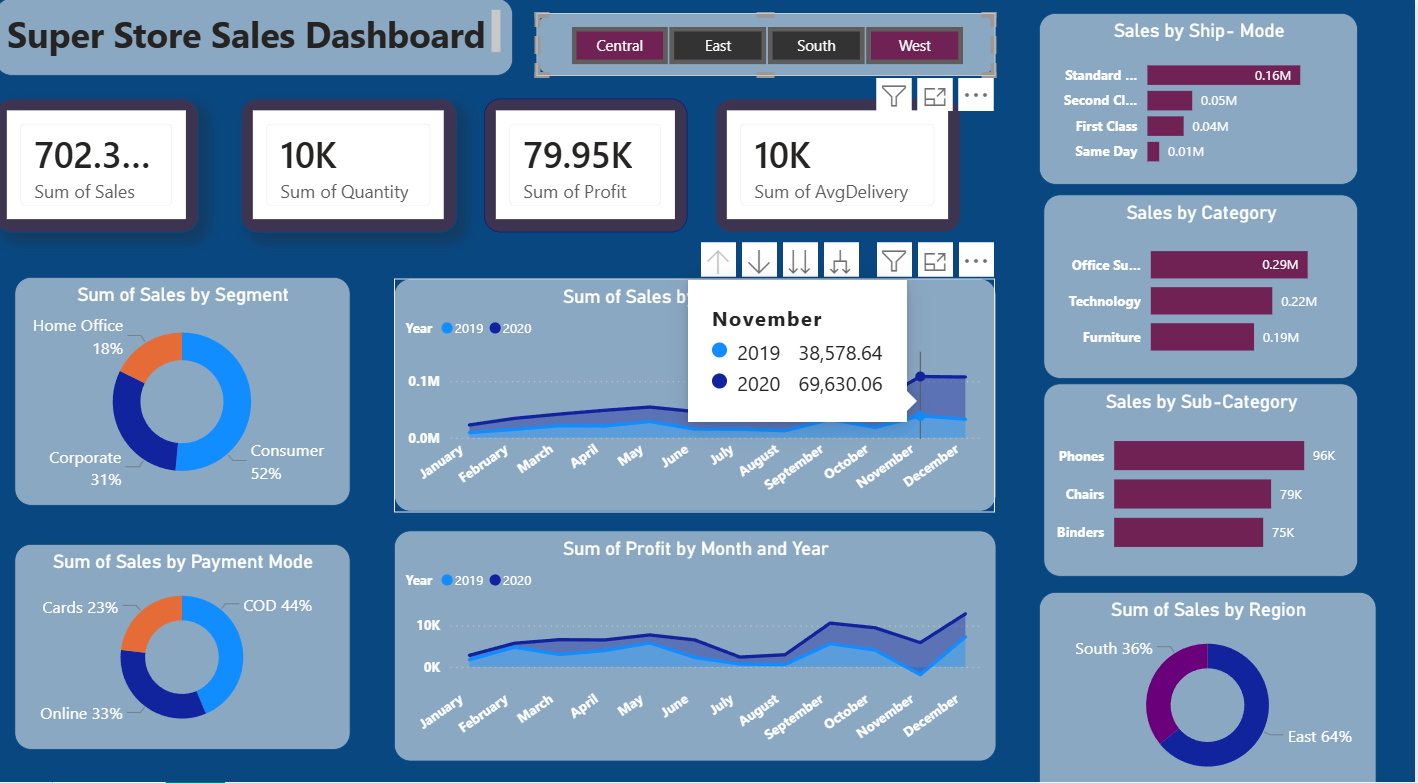

What the dashboard file says about the page in this screenshot:
{"tool":"powerbi","page":{"name":"Page 1","canvas":[1280,720],"ordinal":0},"visuals":[{"type":"clusteredBarChart","title":"Sales by Category","fields":{"Category":["SuperStore_Sales_Dataset.Category"],"Y":["Sum(SuperStore_Sales_Dataset.Sales)"]},"box":[944.9,177.6,283.5,166.3],"z":0},{"type":"clusteredBarChart","title":"Sales by  Sub-Category","fields":{"Category":["SuperStore_Sales_Dataset.Sub-Category"],"Y":["Sum(SuperStore_Sales_Dataset.Sales)"]},"box":[944.9,347.7,283.5,173.9],"z":1000},{"type":"clusteredBarChart","title":"Sales by Ship- Mode","fields":{"Y":["Sum(SuperStore_Sales_Dataset.Sales)"],"Category":["SuperStore_Sales_Dataset.Ship Mode"]},"box":[941.1,13.2,287.2,155],"z":2000},{"type":"stackedAreaChart","fields":{"Y":["Sum(SuperStore_Sales_Dataset.Sales)"],"Series":["SuperStore_Sales_Dataset.Order Date.Variation.Date Hierarchy.Year"],"Category":["SuperStore_Sales_Dataset.Order Date.Variation.Date Hierarchy.Month","SuperStore_Sales_Dataset.Order Date.Variation.Date Hierarchy.Day"]},"box":[359.1,253.2,542.4,209.8],"z":3000},{"type":"stackedAreaChart","fields":{"Series":["SuperStore_Sales_Dataset.Order Date.Variation.Date Hierarchy.Year"],"Category":["SuperStore_Sales_Dataset.Order Date.Variation.Date Hierarchy.Month","SuperStore_Sales_Dataset.Order Date.Variation.Date Hierarchy.Day"],"Y":["Sum(SuperStore_Sales_Dataset.Profit)"]},"box":[359.1,480,542.4,207.9],"z":4000},{"type":"donutChart","fields":{"Category":["SuperStore_Sales_Dataset.Segment"],"Y":["Sum(SuperStore_Sales_Dataset.Sales)"]},"box":[17,251.3,302.4,206],"z":5000},{"type":"donutChart","fields":{"Y":["Sum(SuperStore_Sales_Dataset.Sales)"],"Category":["SuperStore_Sales_Dataset.Region"]},"box":[941.1,534.8,304.3,185.2],"z":6000},{"type":"donutChart","fields":{"Y":["Sum(SuperStore_Sales_Dataset.Sales)"],"Category":["SuperStore_Sales_Dataset.Payment Mode"]},"box":[17,491.3,302.4,185.2],"z":7000},{"type":"slicer","fields":{"Values":["SuperStore_Sales_Dataset.Region"]},"box":[487.6,13.2,413.9,56.7],"z":8000},{"type":"textbox","box":[0,0,466.8,69.9],"z":8001},{"type":"cardVisual","fields":{"Data":["Sum(SuperStore_Sales_Dataset.Sales)"]},"box":[0,90.7,183.3,120.9],"z":8002},{"type":"cardVisual","fields":{"Data":["Sum(SuperStore_Sales_Dataset.Quantity)"]},"box":[221.1,90.7,194.6,120.9],"z":8003},{"type":"cardVisual","fields":{"Data":["Sum(SuperStore_Sales_Dataset.Profit)"]},"box":[440.3,90.7,183.3,120.9],"z":8004},{"type":"cardVisual","fields":{"Data":["Sum(SuperStore_Sales_Dataset.AvgDelivery)"]},"box":[648.2,90.7,221.1,120.9],"z":8005}]}

Visuals, with their boxes in screenshot pixels (x1, y1, x2, y2), scaled from the page's 1280x720 canvas onto the 1418x783 screenshot:
"Sales by Category" clusteredBarChart: pyautogui.locateOnScreen(1047, 193, 1361, 374)
"Sales by  Sub-Category" clusteredBarChart: pyautogui.locateOnScreen(1047, 378, 1361, 567)
"Sales by Ship- Mode" clusteredBarChart: pyautogui.locateOnScreen(1043, 14, 1361, 183)
stackedAreaChart - Sum(SuperStore_Sales_Dataset.Sales) x SuperStore_Sales_Dataset.Order Date.Variation.Date Hierarchy.Year: pyautogui.locateOnScreen(398, 275, 999, 504)
stackedAreaChart - SuperStore_Sales_Dataset.Order Date.Variation.Date Hierarchy.Year x SuperStore_Sales_Dataset.Order Date.Variation.Date Hierarchy.Month: pyautogui.locateOnScreen(398, 522, 999, 748)
donutChart - SuperStore_Sales_Dataset.Segment x Sum(SuperStore_Sales_Dataset.Sales): pyautogui.locateOnScreen(19, 273, 354, 497)
donutChart - Sum(SuperStore_Sales_Dataset.Sales) x SuperStore_Sales_Dataset.Region: pyautogui.locateOnScreen(1043, 582, 1380, 782)
donutChart - Sum(SuperStore_Sales_Dataset.Sales) x SuperStore_Sales_Dataset.Payment Mode: pyautogui.locateOnScreen(19, 534, 354, 736)
slicer - SuperStore_Sales_Dataset.Region: pyautogui.locateOnScreen(540, 14, 999, 76)
textbox: pyautogui.locateOnScreen(0, 0, 517, 76)
cardVisual - Sum(SuperStore_Sales_Dataset.Sales): pyautogui.locateOnScreen(0, 99, 203, 230)
cardVisual - Sum(SuperStore_Sales_Dataset.Quantity): pyautogui.locateOnScreen(245, 99, 461, 230)
cardVisual - Sum(SuperStore_Sales_Dataset.Profit): pyautogui.locateOnScreen(488, 99, 691, 230)
cardVisual - Sum(SuperStore_Sales_Dataset.AvgDelivery): pyautogui.locateOnScreen(718, 99, 963, 230)
